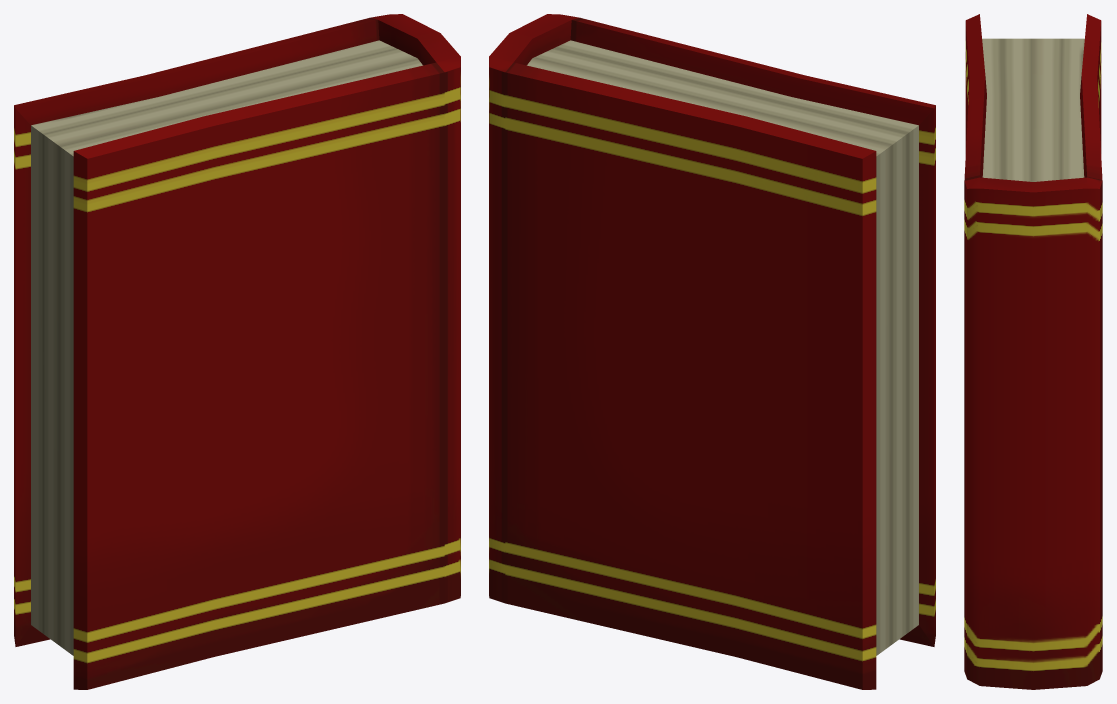
File: thickstandingbook.fbx
3 renders of one model, left to right at view 1: azimuth 30°, elevation 25°; view 2: azimuth 150°, elevation 25°; view 3: azimuth 270°, elevation 25°, orthographic. The views are drawn at different scales.
Visible parts, largest first — view 1: prop_bossbook2; view 2: prop_bossbook2; view 3: prop_bossbook2.
Boxes of the visible parts, x1=… form: prop_bossbook2: x1=14, y1=14, x2=460, y2=689; prop_bossbook2: x1=489, y1=14, x2=935, y2=689; prop_bossbook2: x1=964, y1=14, x2=1102, y2=689.
Size of the model in its own units: 137 by 178 by 44.79.
